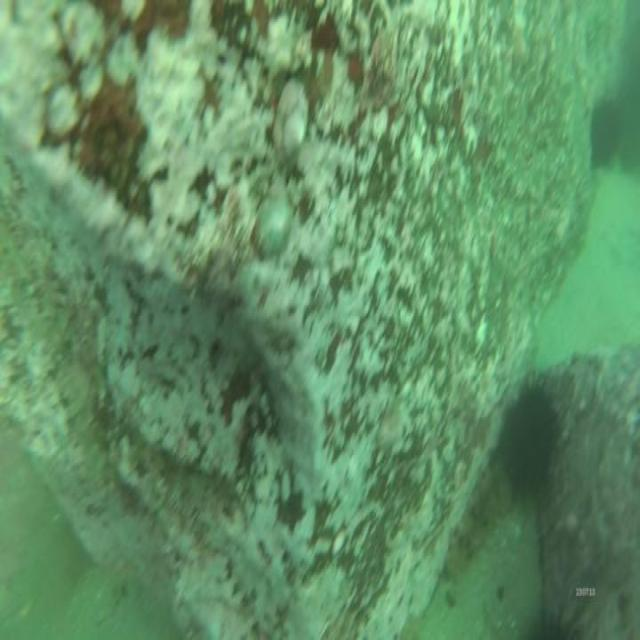echinus: (500, 375, 560, 507), (591, 90, 627, 175)
holothurian: (443, 468, 504, 578)
